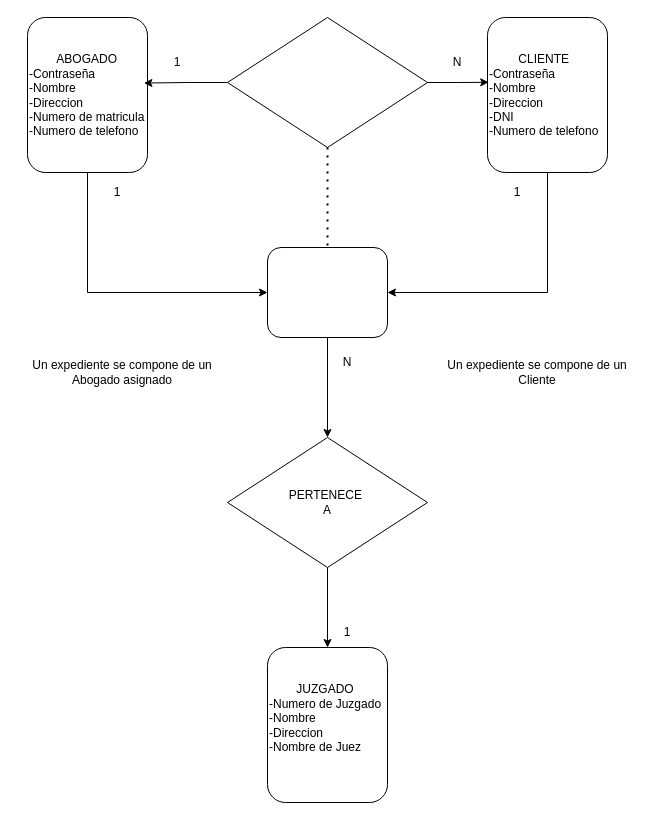
Image size: 664x820. Some labels were removed from this diagram. Here are the shapes that lost their labels. From the top down, the centre of each, then its label:
At point 327,82: "ASOCION (Trabajo con)".
At point 327,292: "EXPEDIENTE -Caratula -Numero de expediente".
